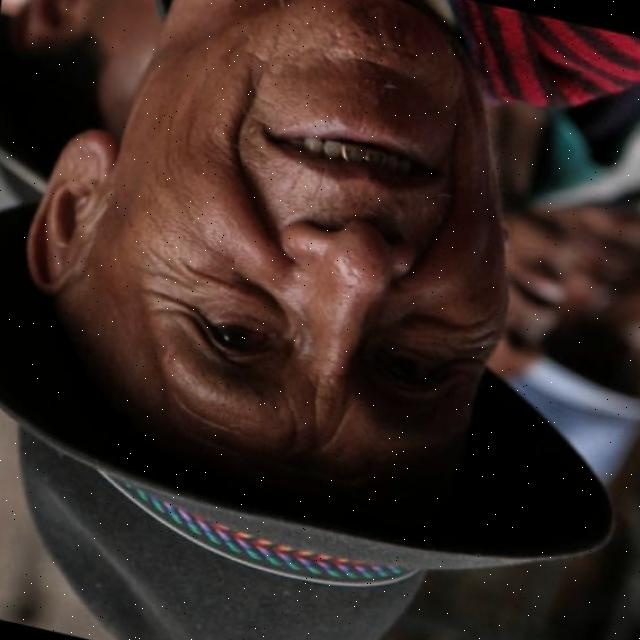puffy_eyes: (201, 280, 292, 328), (399, 322, 468, 358)
